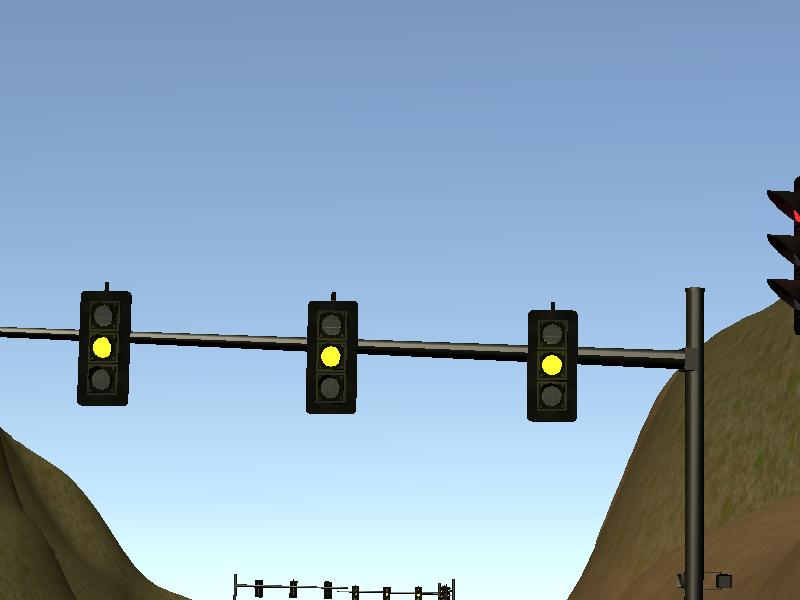not_red: (78, 289, 129, 406), (527, 308, 578, 420), (308, 300, 357, 413)
